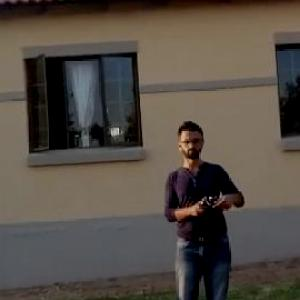follow: (161, 111, 252, 299)
